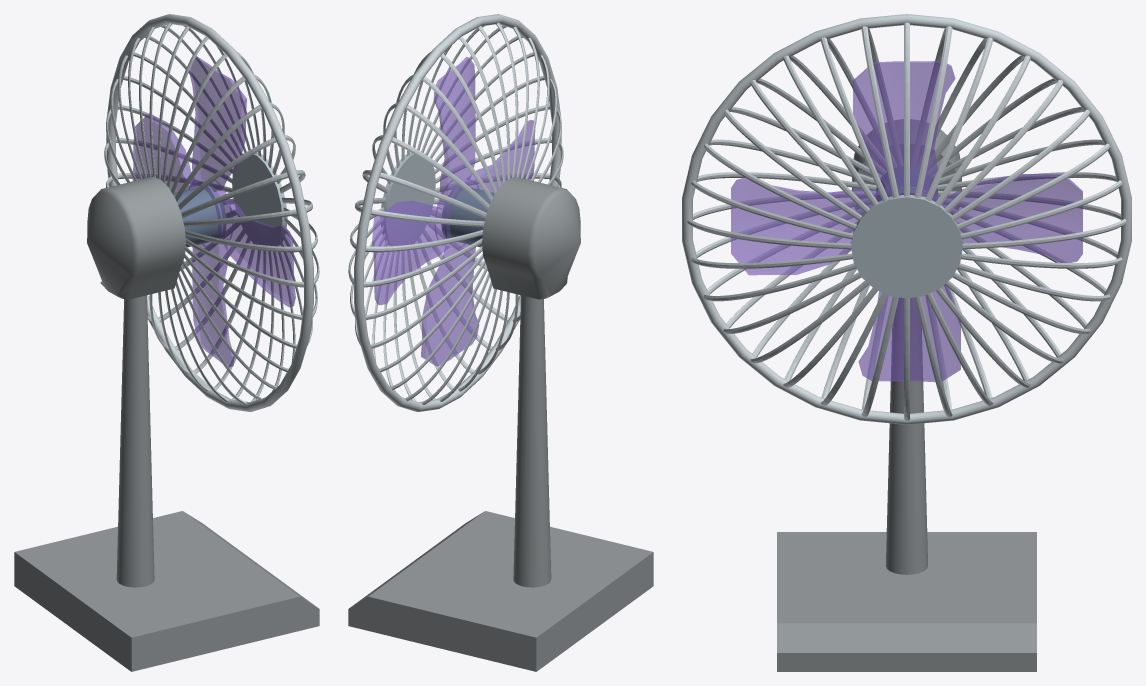
The model's file is all.fbx.
The picture shows the model from 3 angles, left to right: view 1: azimuth 30°, elevation 25°; view 2: azimuth 150°, elevation 25°; view 3: azimuth 270°, elevation 25°; orthographic projection. The views are drawn at different scales.
Visible parts, largest first — view 1: pCube25, pCube5, pCylinder5, pCylinder6, pTorus1, pCylinder2, pCube22, pCube21, pCube23, pCube20, pCube8, pCube19 (+11 smaller); view 2: pCube25, pCube5, pCylinder5, pCylinder6, pTorus1, pCylinder2, pCube10, pCube11, pCube9, pCube12, pCube13, pCube14 (+11 smaller); view 3: pCube25, pCube5, pTorus1, pCylinder2, pCylinder6, pCube15, pCube14, pCube17, pCube18, pCube16, pCube13, pCube19 (+11 smaller).
Boxes of the visible parts, <box> form: pCube25: <box>14,511,319,671</box>; pCube5: <box>132,57,295,367</box>; pCylinder5: <box>87,176,185,299</box>; pCylinder6: <box>116,295,154,587</box>; pTorus1: <box>106,14,313,411</box>; pCylinder2: <box>232,152,287,245</box>; pCube22: <box>149,22,274,404</box>; pCube21: <box>139,25,284,401</box>; pCube23: <box>157,26,265,401</box>; pCube20: <box>128,35,295,389</box>; pCube8: <box>162,36,261,391</box>; pCube19: <box>118,52,302,372</box>; pCube25: <box>348,511,653,671</box>; pCube5: <box>372,57,535,366</box>; pCylinder5: <box>482,176,580,299</box>; pCylinder6: <box>513,295,551,587</box>; pTorus1: <box>354,14,561,411</box>; pCylinder2: <box>380,152,435,245</box>; pCube10: <box>393,22,518,404</box>; pCube11: <box>383,25,528,401</box>; pCube9: <box>402,26,510,401</box>; pCube12: <box>372,35,539,389</box>; pCube13: <box>365,52,549,372</box>; pCube14: <box>355,76,557,348</box>; pCube25: <box>777,532,1036,671</box>; pCube5: <box>731,61,1082,381</box>; pTorus1: <box>682,14,1131,424</box>; pCylinder2: <box>851,195,962,298</box>; pCylinder6: <box>885,297,928,574</box>; pCube15: <box>691,172,1122,268</box>; pCube14: <box>703,139,1110,301</box>; pCube17: <box>691,172,1122,268</box>; pCube18: <box>703,139,1110,301</box>; pCube16: <box>687,191,1126,249</box>; pCube13: <box>723,107,1090,333</box>; pCube19: <box>723,107,1090,333</box>.
Size of the model in its own units: 7.74 by 22.15 by 14.32.
